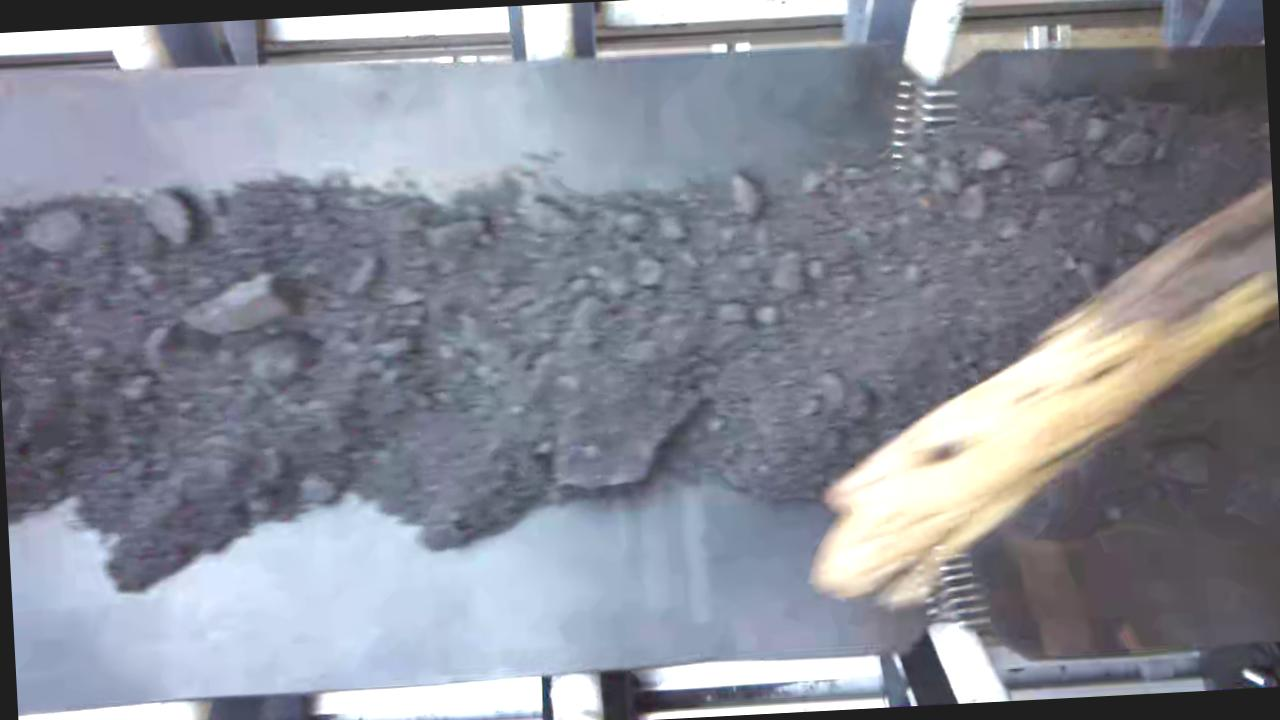conveyor: (0, 45, 1280, 701)
